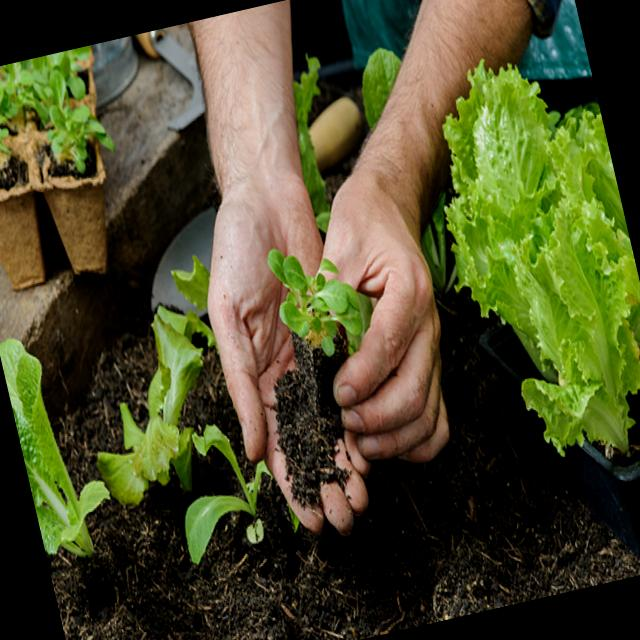inmadura: (443, 63, 640, 453)
verde: (97, 306, 215, 504), (267, 248, 361, 355)
